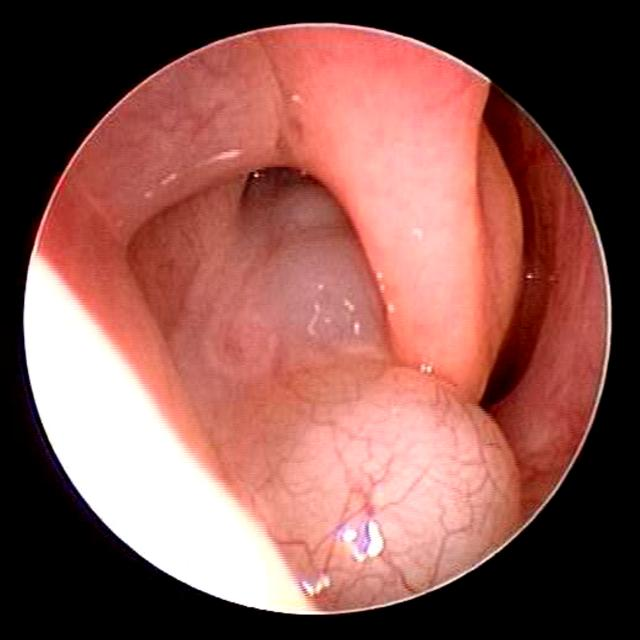OPENING: (443, 67, 557, 407)
POLYPS: (230, 346, 530, 625), (81, 214, 326, 521)
